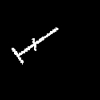double_crochet: (12, 28, 57, 63)
